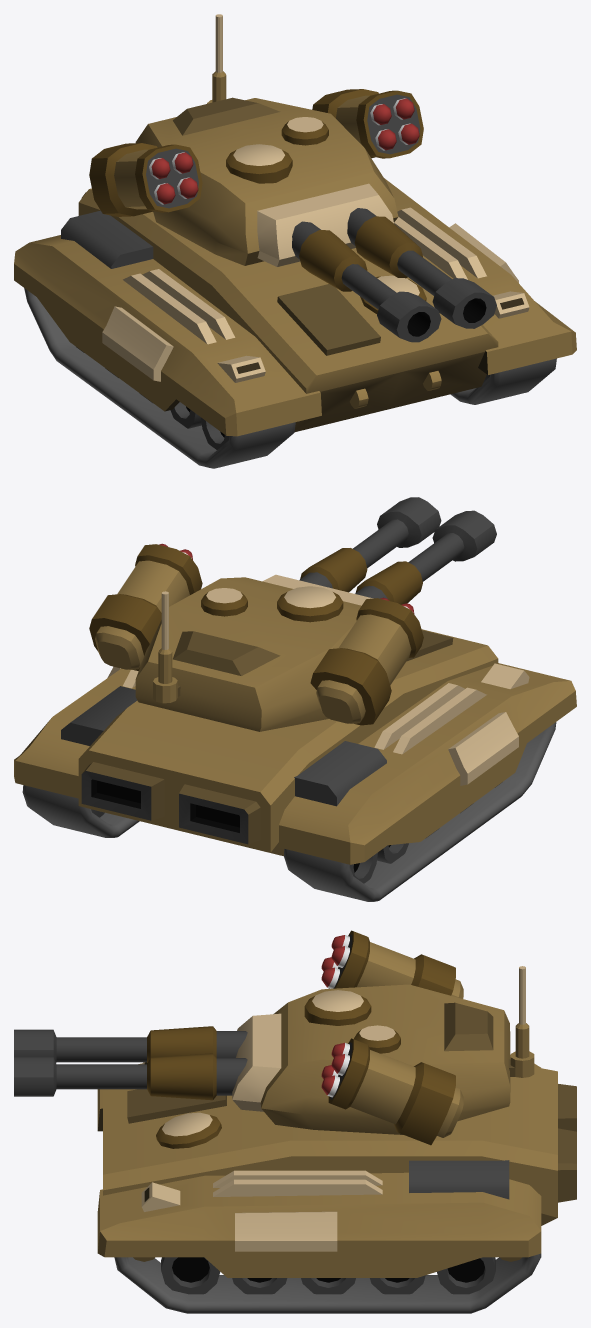
Rendered from Tank 4.fbx.
3 views of the same model, one above another, from view 1: azimuth 30°, elevation 25°; view 2: azimuth 150°, elevation 25°; view 3: azimuth 270°, elevation 25° (orthographic).
Visible parts, largest first — view 1: Cube.433, Cube.432, Cylinder.473, Cylinder.476, Cube.436, Circle.019, Cube.437, Cube.434, Cube.435, Cylinder.479, Cylinder.474, Cylinder.475 (+2 smaller); view 2: Cube.432, Cube.433, Cylinder.473, Cube.436, Circle.019, Cylinder.476, Cube.435, Cube.437, Cylinder.474, Cylinder.478, Cylinder.475, Cube.434; view 3: Cube.433, Cube.432, Cylinder.473, Cylinder.476, Cube.436, Circle.019, Cube.437, Cube.435, Cylinder.474, Cube.434, Cylinder.479, Cylinder.540 (+7 smaller).
Boxes of the visible parts, <box> form: Cube.433: <box>14,178,576,436</box>; Cube.432: <box>78,188,498,431</box>; Cylinder.473: <box>135,97,398,266</box>; Cylinder.476: <box>292,208,496,342</box>; Cube.436: <box>89,89,423,216</box>; Circle.019: <box>24,288,556,468</box>; Cube.437: <box>123,207,486,344</box>; Cube.434: <box>277,284,380,355</box>; Cube.435: <box>61,210,153,268</box>; Cylinder.479: <box>149,98,419,204</box>; Cylinder.474: <box>226,144,292,183</box>; Cylinder.475: <box>281,117,328,145</box>; Cube.432: <box>78,629,498,855</box>; Cube.433: <box>14,663,576,864</box>; Cylinder.473: <box>135,574,373,731</box>; Cube.436: <box>89,544,423,725</box>; Circle.019: <box>22,722,556,901</box>; Cylinder.476: <box>299,497,496,604</box>; Cube.435: <box>61,686,386,806</box>; Cube.437: <box>123,670,486,754</box>; Cylinder.474: <box>277,586,343,622</box>; Cylinder.478: <box>153,591,180,703</box>; Cylinder.475: <box>201,588,247,616</box>; Cube.434: <box>406,630,453,661</box>; Cube.433: <box>97,1055,541,1277</box>; Cube.432: <box>103,1067,576,1225</box>; Cylinder.473: <box>232,984,510,1134</box>; Cylinder.476: <box>14,1026,247,1100</box>; Cube.436: <box>328,930,463,1145</box>; Circle.019: <box>114,1253,541,1313</box>; Cube.437: <box>213,1170,382,1196</box>; Cube.435: <box>409,1160,509,1199</box>; Cylinder.474: <box>304,990,371,1025</box>; Cube.434: <box>127,1089,226,1123</box>; Cylinder.479: <box>321,935,349,1097</box>; Cylinder.540: <box>161,1257,220,1294</box>.
Bounding box in the file's own units: 1183 × 874 × 1580.
